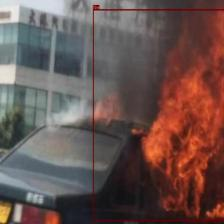fire: (92, 9, 224, 220)
